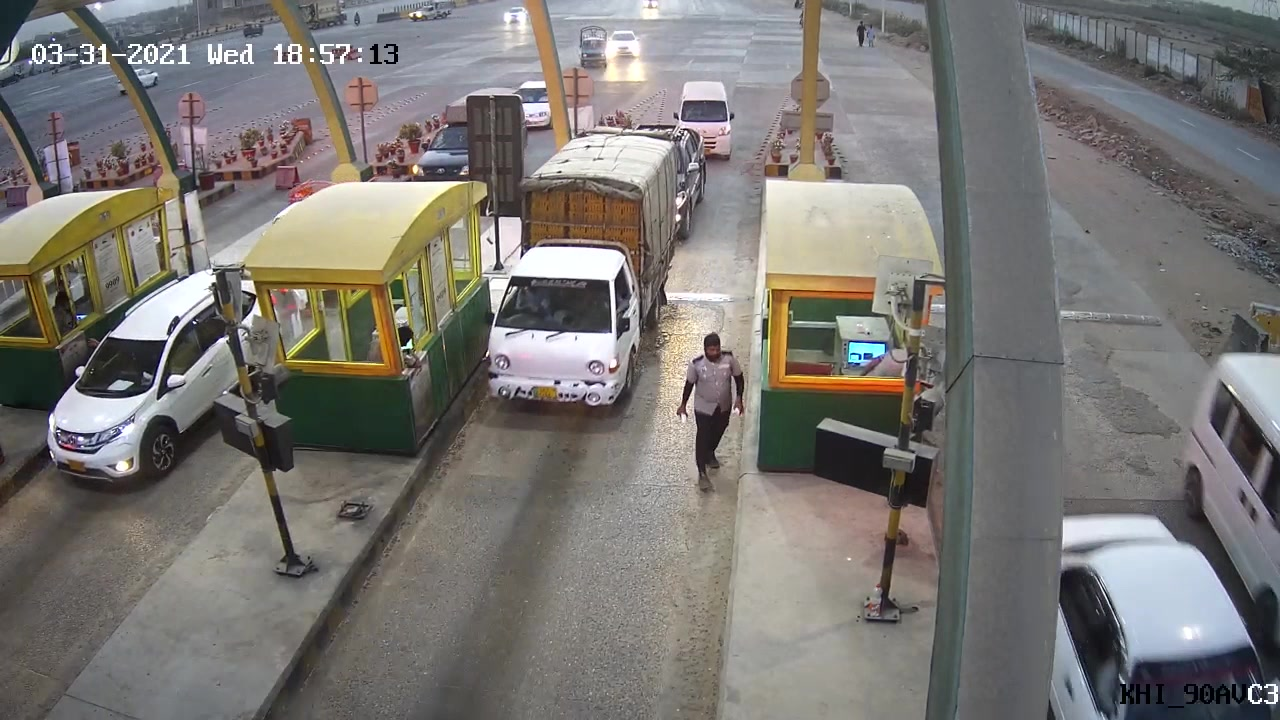F2: (484, 212, 659, 423)
